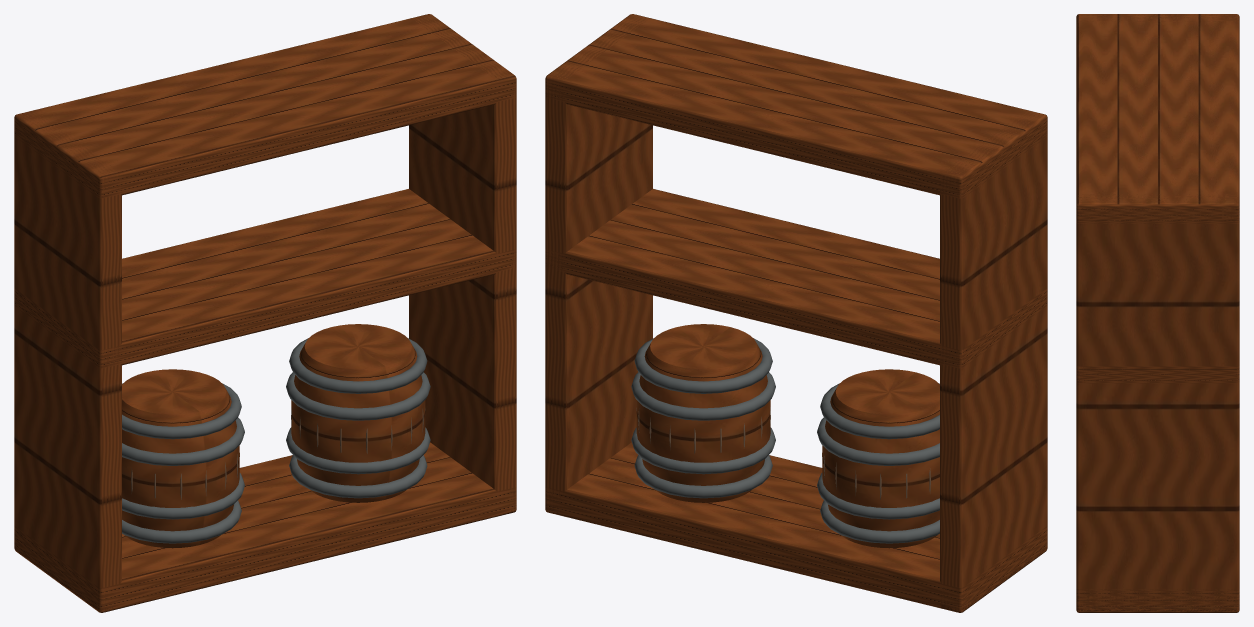
The model's file is adventurers-tavern-and-guild-hall-keg-rack-972c423a__24708.glb.
The picture shows the model from 3 angles, left to right: view 1: azimuth 30°, elevation 25°; view 2: azimuth 150°, elevation 25°; view 3: azimuth 270°, elevation 25°; orthographic projection. The views are drawn at different scales.
Parts seen in each view (by area): view 1: keg-rack; view 2: keg-rack; view 3: keg-rack.
Part boxes in pixels (<box>): keg-rack: <box>14,14,516,612</box>; keg-rack: <box>545,14,1047,612</box>; keg-rack: <box>1076,14,1239,612</box>.
Bounding box in the file's own units: 1.8 × 1.8 × 0.65.
3 materials, 1 textured.
